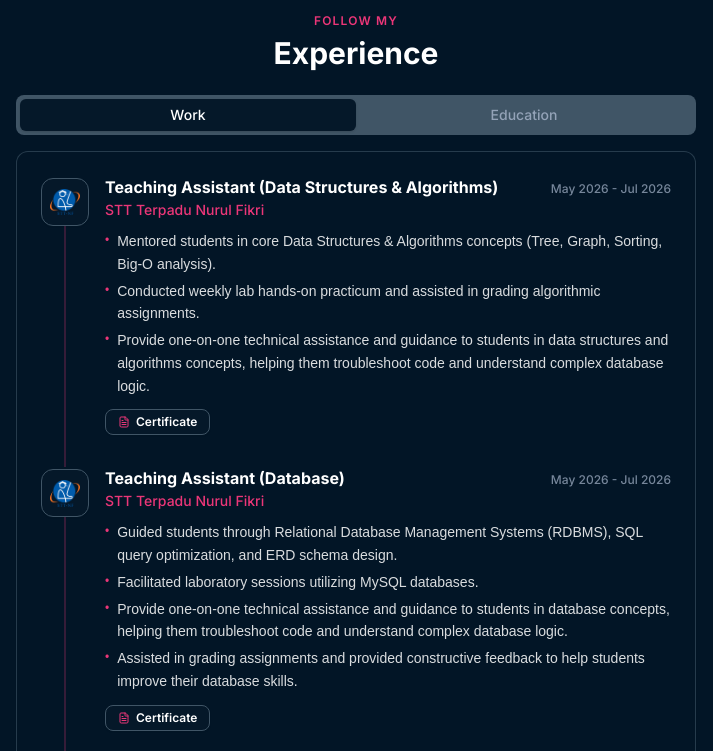
Test: ExperienceSection & TimelineEntry › renders Work tab by default and switches to Education tab on click
Click the tab "Education": (524, 115) [356, 99, 692, 131]
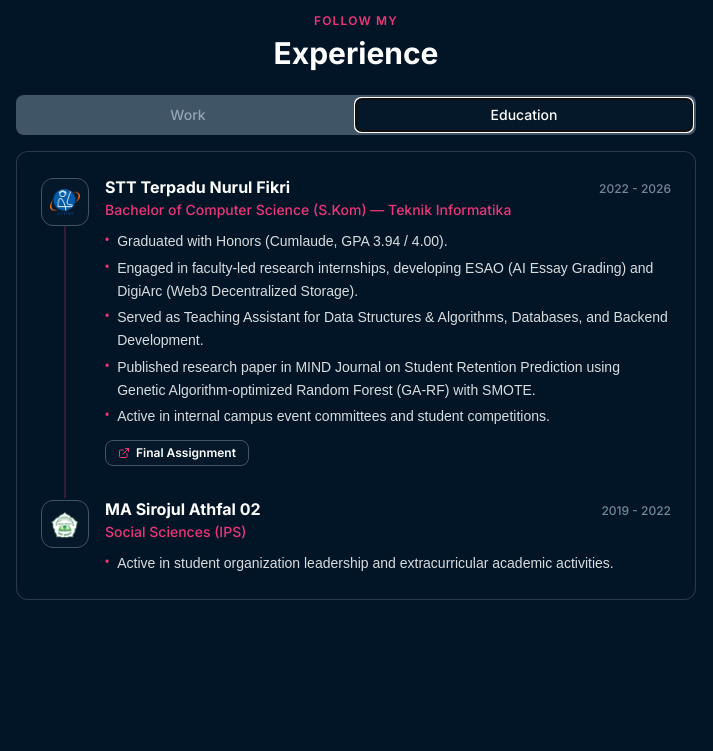
expect the list named "Education timeline" is shown: met, box [41, 176, 671, 575]
expect the text "Bachelor of Computer Science (S.Kom) — Teknik Informatika" is shown: met, box [105, 201, 511, 218]
